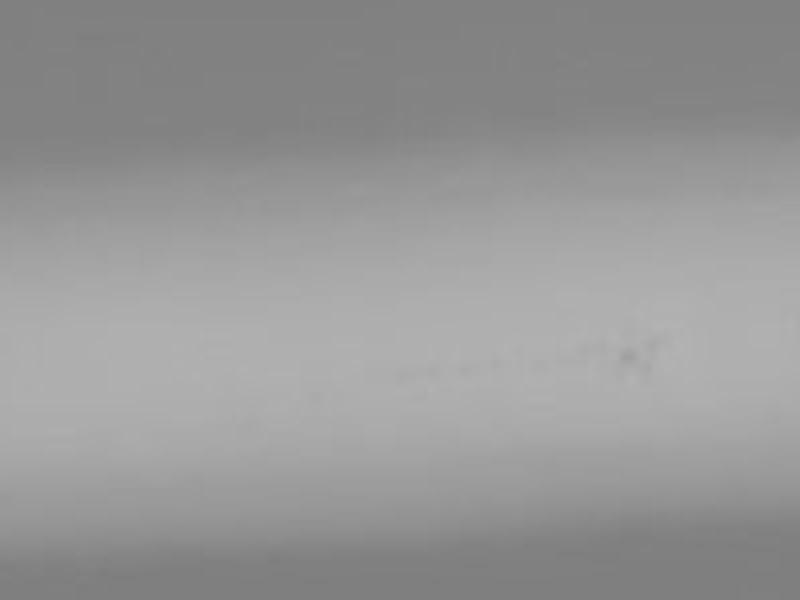defect: (395, 362, 447, 387), (573, 334, 608, 371), (641, 327, 674, 353), (478, 352, 506, 376), (616, 342, 640, 369), (456, 358, 478, 378), (639, 359, 654, 383)
